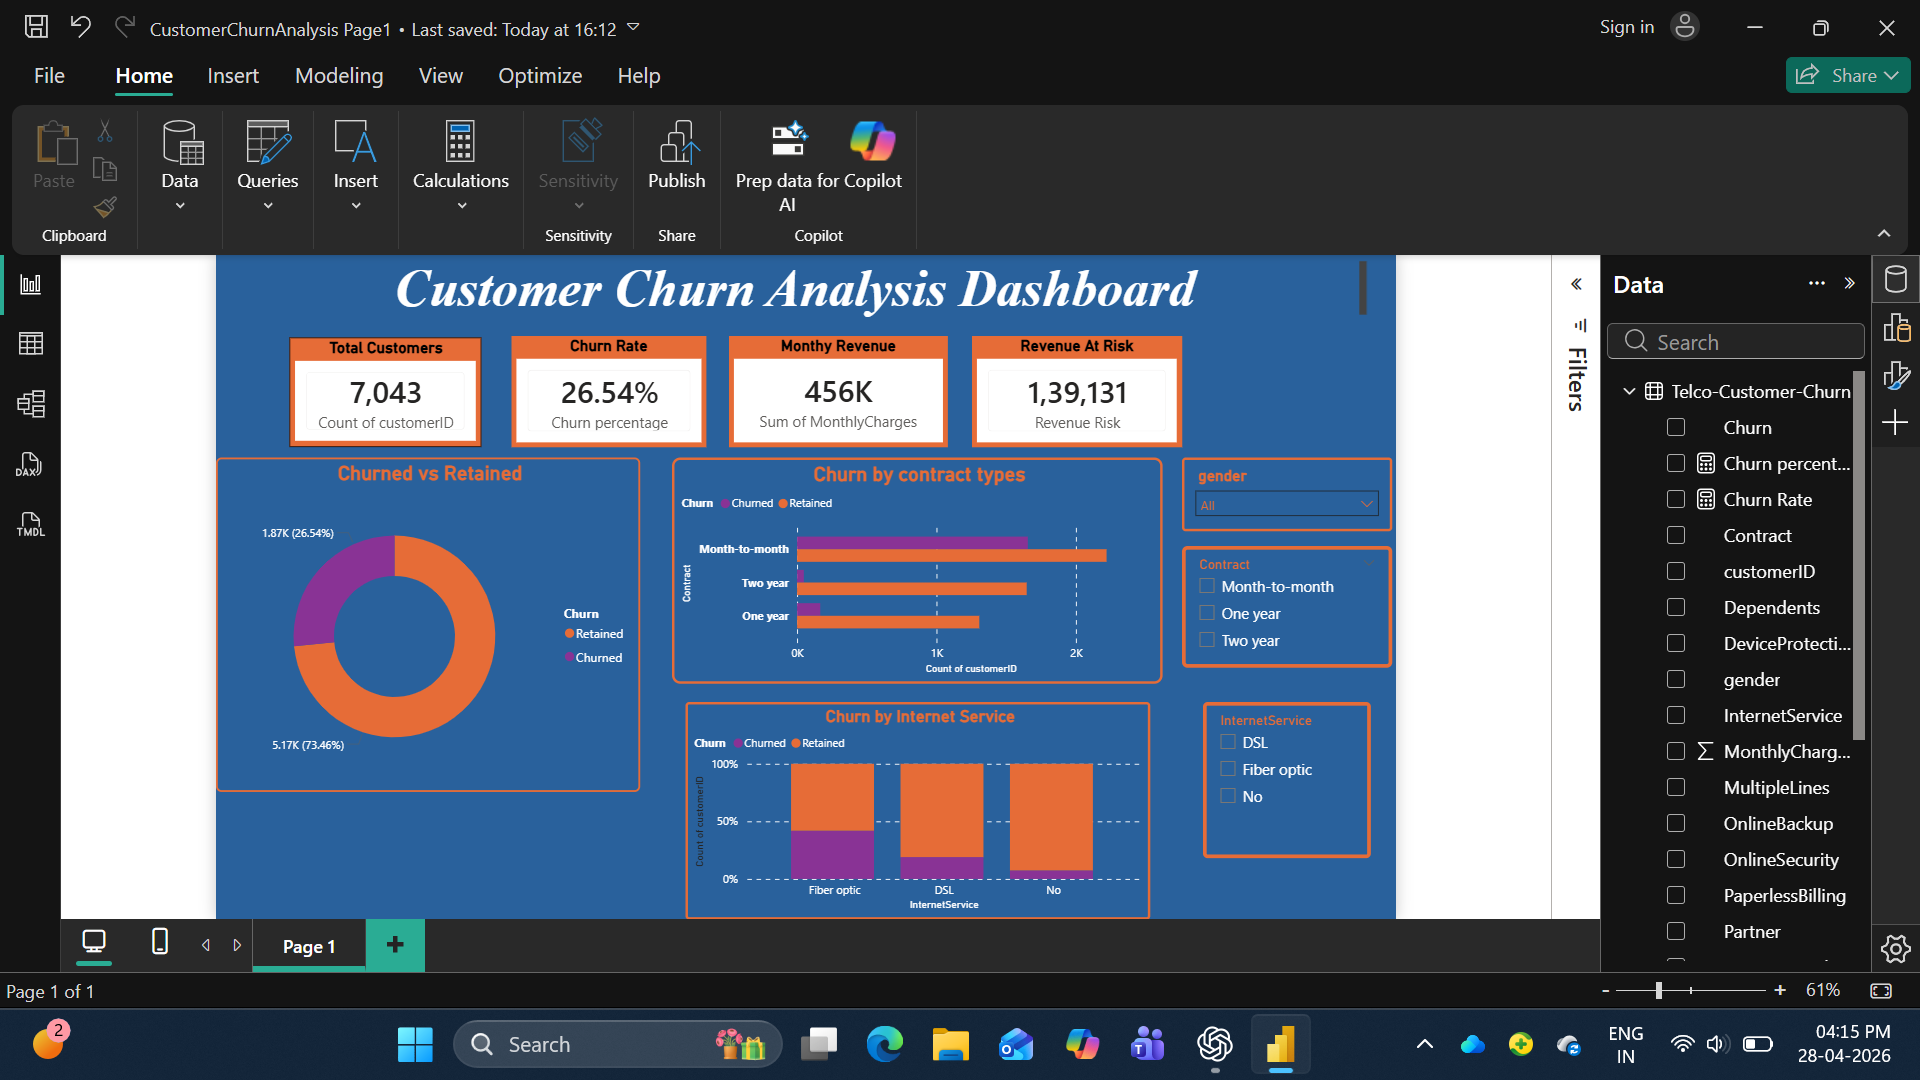

The dashboard page shown, as its layout file describes it:
{"tool":"powerbi","page":{"name":"Page 1","canvas":[1280,720],"ordinal":0},"visuals":[{"type":"textbox","box":[9.8,0,1242.7,71.6],"z":0},{"type":"cardVisual","title":"Total Customers","fields":{"Data":["CountNonNull(Telco-Customer-Churn.customerID)"]},"box":[81.3,87.8,208.2,118.7],"z":1},{"type":"cardVisual","title":"Churn Rate","fields":{"Data":["Telco-Customer-Churn.Churn percentage"]},"box":[320.4,87.8,211.5,120.4],"z":2},{"type":"cardVisual","title":"Monthy Revenue","fields":{"Data":["Sum(Telco-Customer-Churn.MonthlyCharges)"]},"box":[556.3,87.8,237.5,120.4],"z":3},{"type":"cardVisual","title":"Revenue At Risk","fields":{"Data":["Telco-Customer-Churn.Revenue Risk"]},"box":[819.8,87.8,227.7,120.4],"z":4},{"type":"donutChart","title":"Churned vs Retained","fields":{"Category":["Telco-Customer-Churn.Churn"],"Y":["CountNonNull(Telco-Customer-Churn.customerID)"]},"box":[0,219.6,460.3,362.7],"z":5},{"type":"clusteredBarChart","title":"Churn by contract types","fields":{"Category":["Telco-Customer-Churn.Contract"],"Series":["Telco-Customer-Churn.Churn"],"Y":["CountNonNull(Telco-Customer-Churn.customerID)"]},"box":[494.5,219.6,531.9,245.6],"z":6},{"type":"hundredPercentStackedColumnChart","title":"Churn by Internet Service","fields":{"Category":["Telco-Customer-Churn.InternetService"],"Series":["Telco-Customer-Churn.Churn"],"Y":["CountNonNull(Telco-Customer-Churn.customerID)"]},"box":[509.1,484.7,504.2,235.8],"z":7},{"type":"slicer","fields":{"Values":["Telco-Customer-Churn.gender"]},"box":[1047.5,219.6,227.7,79.7],"z":8},{"type":"slicer","fields":{"Values":["Telco-Customer-Churn.Contract"]},"box":[1047.5,315.5,227.7,131.8],"z":9},{"type":"slicer","fields":{"Values":["Telco-Customer-Churn.InternetService"]},"box":[1070.3,484.7,182.2,169.2],"z":10}]}

Visuals, with their boxes on the page's 1280x720 design canvas (x1, y1, x2, y2). These are canvas units, not pixel positions in the 1920x1080 screenshot, which may show the page scaled, cropped or inside an application window:
textbox: detection(10, 0, 1252, 72)
"Total Customers" cardVisual: detection(81, 88, 290, 206)
"Churn Rate" cardVisual: detection(320, 88, 532, 208)
"Monthy Revenue" cardVisual: detection(556, 88, 794, 208)
"Revenue At Risk" cardVisual: detection(820, 88, 1048, 208)
"Churned vs Retained" donutChart: detection(0, 220, 460, 582)
"Churn by contract types" clusteredBarChart: detection(494, 220, 1026, 465)
"Churn by Internet Service" hundredPercentStackedColumnChart: detection(509, 485, 1013, 720)
slicer - Telco-Customer-Churn.gender: detection(1048, 220, 1275, 299)
slicer - Telco-Customer-Churn.Contract: detection(1048, 316, 1275, 447)
slicer - Telco-Customer-Churn.InternetService: detection(1070, 485, 1252, 654)
